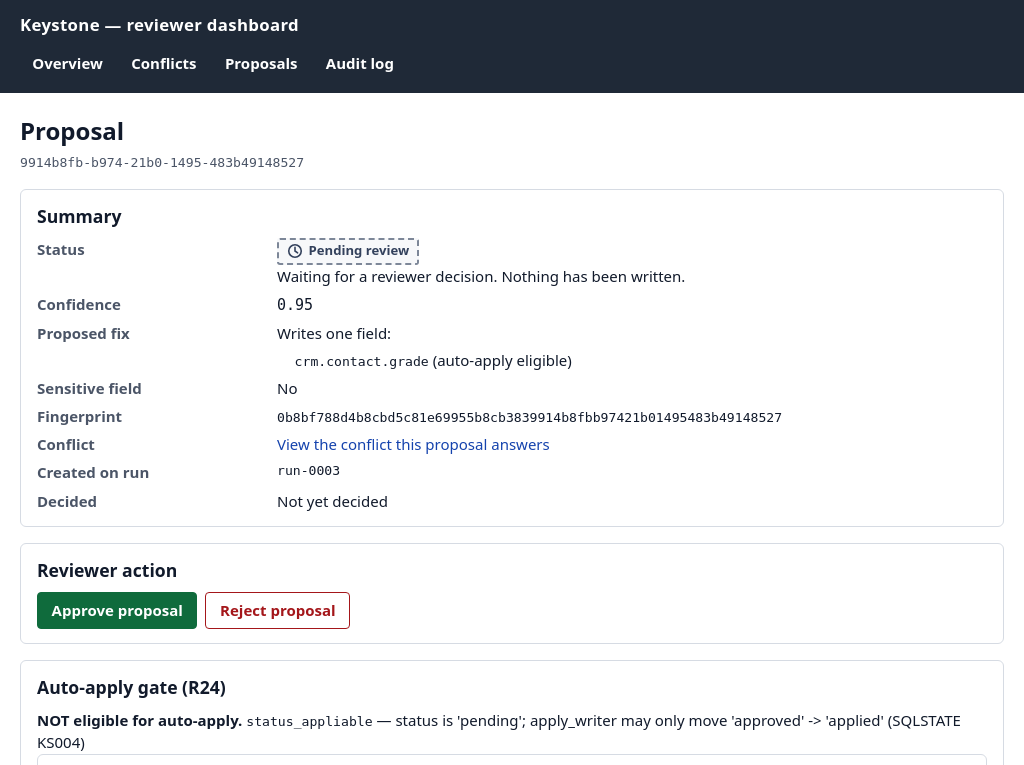
Scenario: /proposals/:id — approve and reject › approves a proposal, posts to the API, and shows the new status
The image size is (1024, 765).
Click the button "Approve proposal": (117, 610) [37,592,198,629]
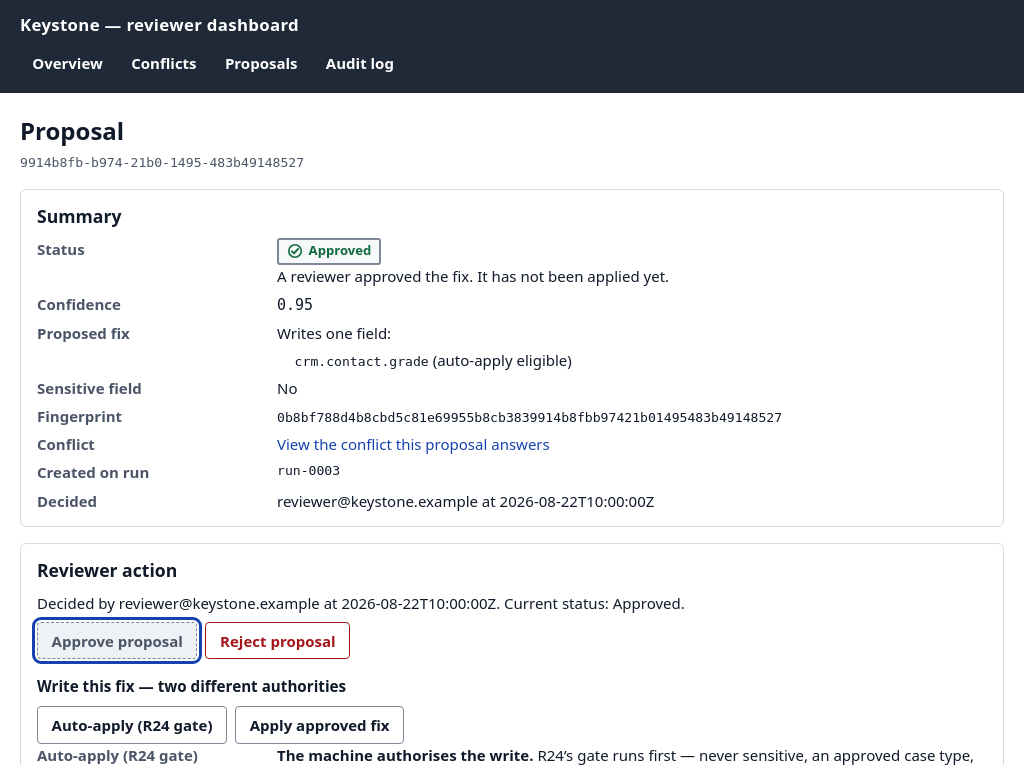
Expected: the text "Approved" is shown, [309,242,371,261]
